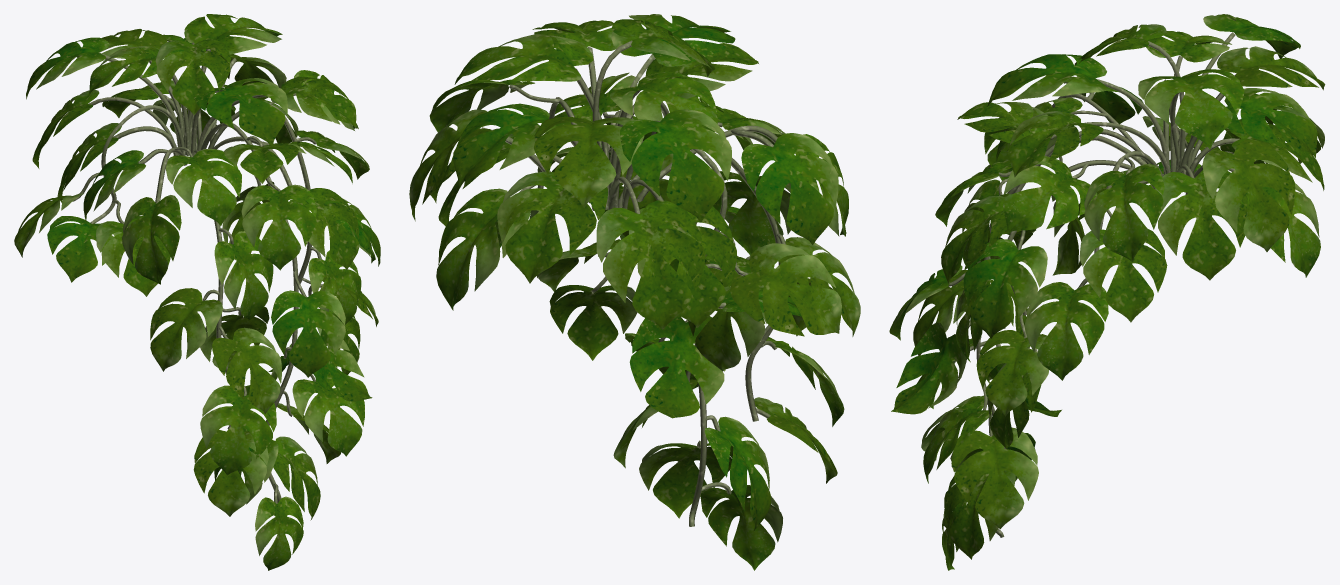
The model's file is Plant_A.fbx.
The picture shows the model from 3 angles, left to right: view 1: azimuth 30°, elevation 25°; view 2: azimuth 150°, elevation 25°; view 3: azimuth 270°, elevation 25°; orthographic projection. The views are drawn at different scales.
Visible parts, largest first — view 1: Plant_AAA1, Plant_AAA2; view 2: Plant_AAA1, Plant_AAA2; view 3: Plant_AAA1, Plant_AAA2.
Boxes of the visible parts, box(x1,y1,x2,y2) form: Plant_AAA1: box(14, 14, 380, 296); Plant_AAA2: box(150, 149, 378, 570); Plant_AAA1: box(409, 14, 848, 336); Plant_AAA2: box(495, 131, 860, 570); Plant_AAA1: box(935, 14, 1325, 338); Plant_AAA2: box(889, 135, 1146, 570).
Size of the model in its own units: 0.3295 by 0.4532 by 0.3328.
